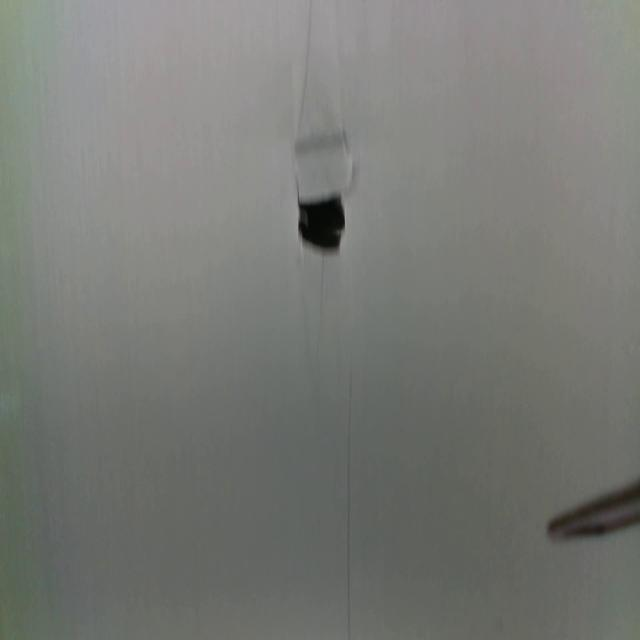crease: (344, 364, 356, 640), (297, 0, 315, 134)
hole: (295, 183, 347, 256)
